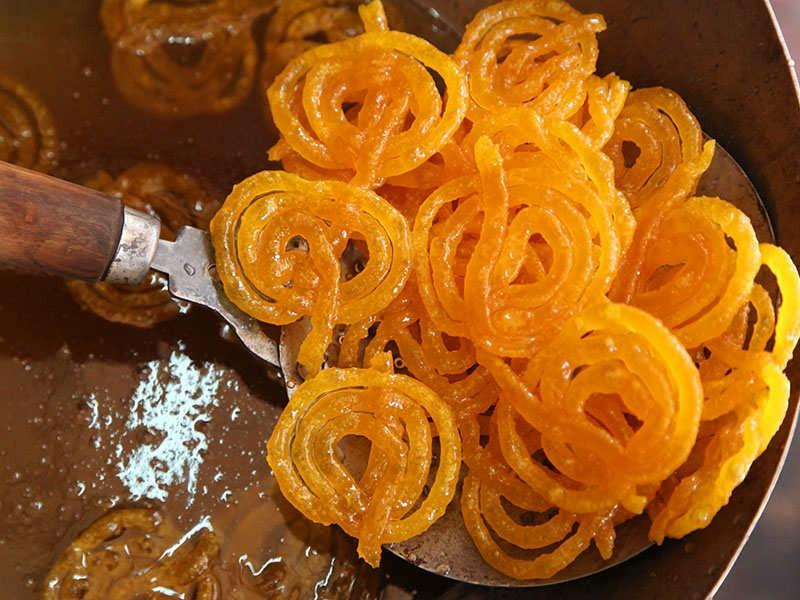Jalebi: (205, 2, 800, 588)
